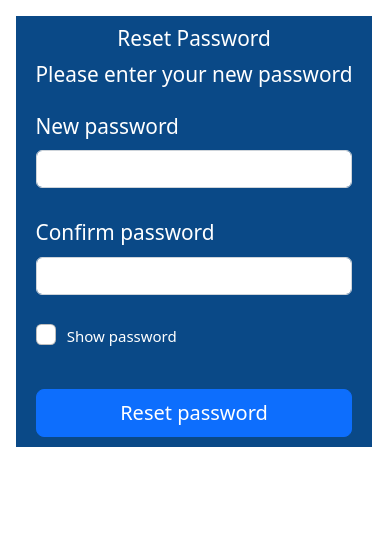
ResetPasswordForm › should show an error message when new password field is empty
Type "password123" into the password field labelled "Confirm password" at {"x": 194, "y": 276}, box [36,257,352,295]
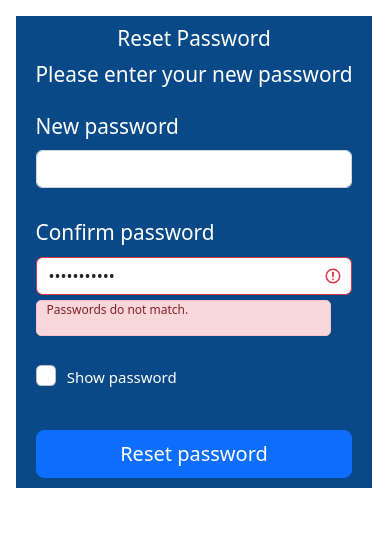
Click the button "Reset password" at {"x": 194, "y": 454}, box [36,430,352,478]
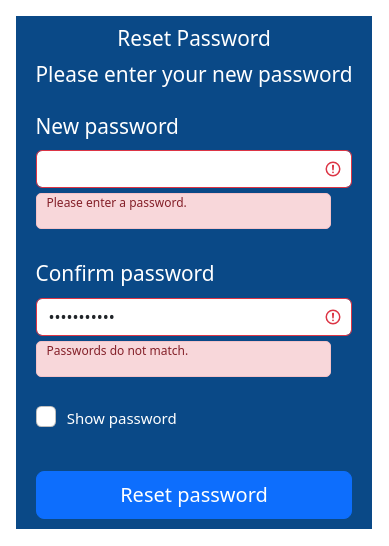
Result: the text "Please enter a password." is shown at [46,194,187,212]
